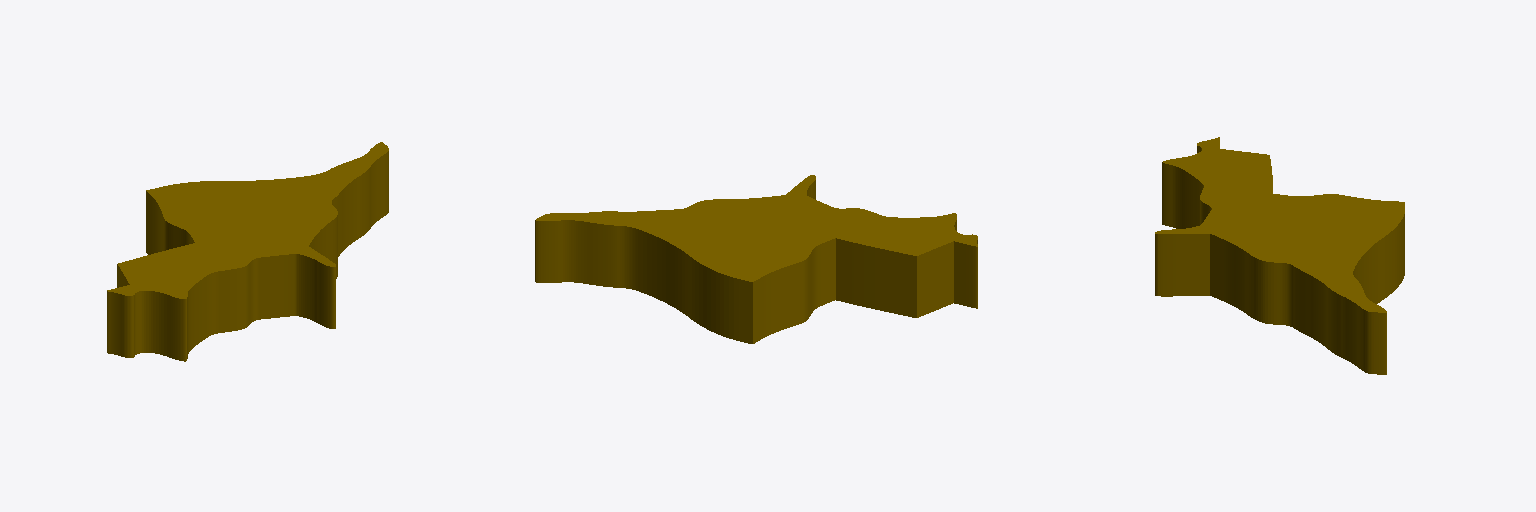
3 views of the same model, side by side, from view 1: azimuth 30°, elevation 25°; view 2: azimuth 150°, elevation 25°; view 3: azimuth 270°, elevation 25° (orthographic).
Visible parts, largest first — view 1: Curve.009_path4186; view 2: Curve.009_path4186; view 3: Curve.009_path4186.
Part boxes in pixels (x1,y1,x2,y2): Curve.009_path4186: (107, 142, 388, 361); Curve.009_path4186: (535, 175, 977, 343); Curve.009_path4186: (1155, 137, 1404, 374).
Bounding box in the file's own units: 0.6057 × 0.1 × 0.3662.